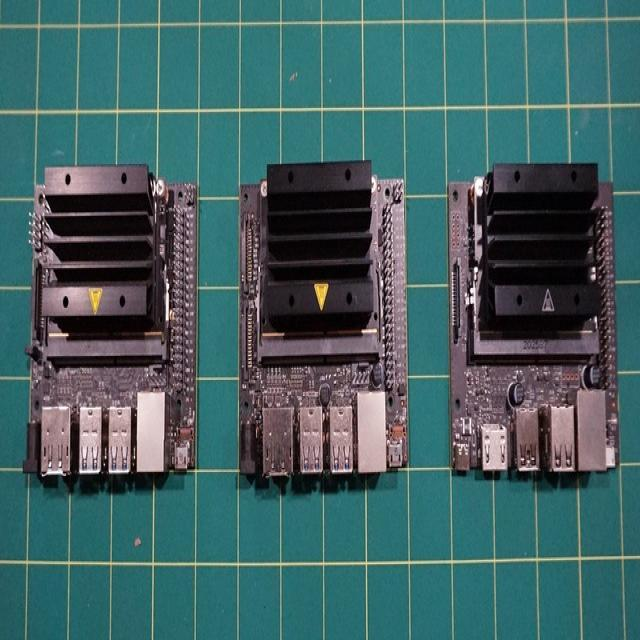Jetson Nano: (23, 165, 198, 475), (240, 159, 410, 476), (448, 161, 619, 472)
